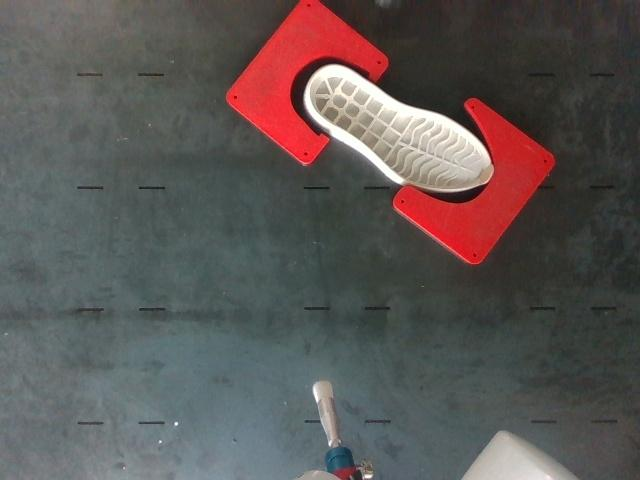shoes: (310, 66, 491, 190)
